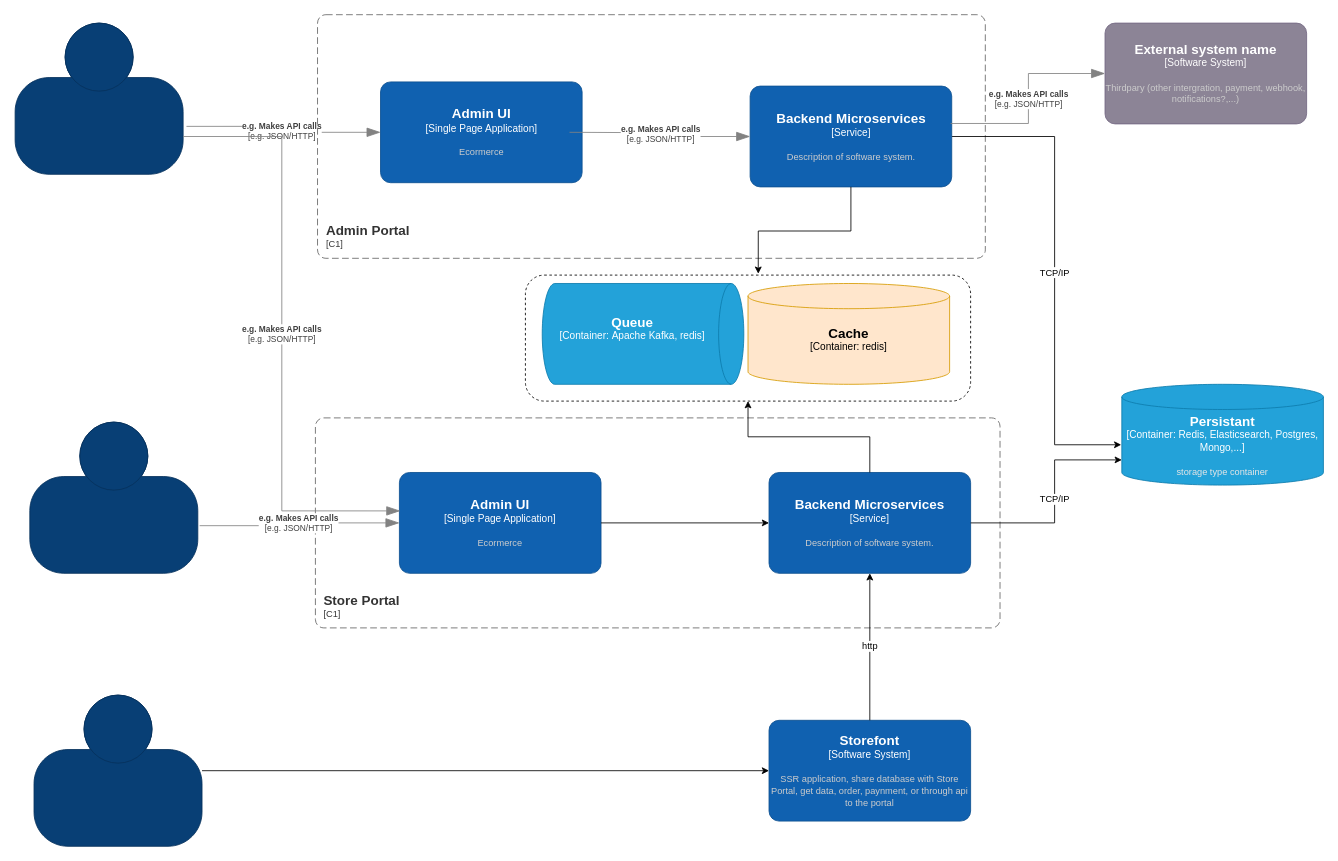
This 1338x861 diagram has some shape labels left out. Here are the shapes that lost their labels. From the top down, the centre of each, then its label:
point 98,98: Admin [Person] can be a seller too, or with monitoring operation
point 113,497: Tenant (Seller) [Person]
point 117,770: Buyer [Person]
